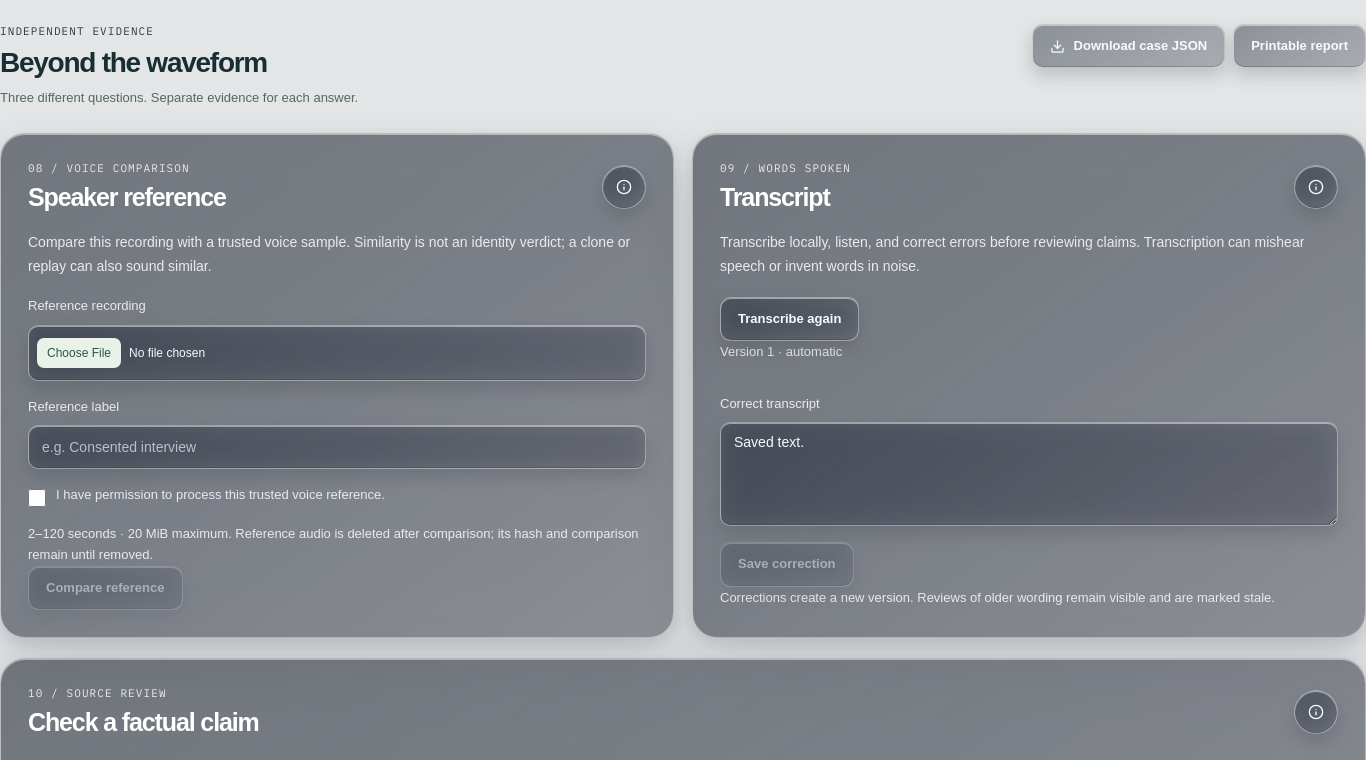
Test: shows action errors without replacing an existing successful transcript
The image size is (1366, 760).
Expected: the text box showing "Saved text." is shown, 720,422 -> 1338,526
Click the button "Transcribe again". click: (790, 319)
box: 720,297 -> 859,341
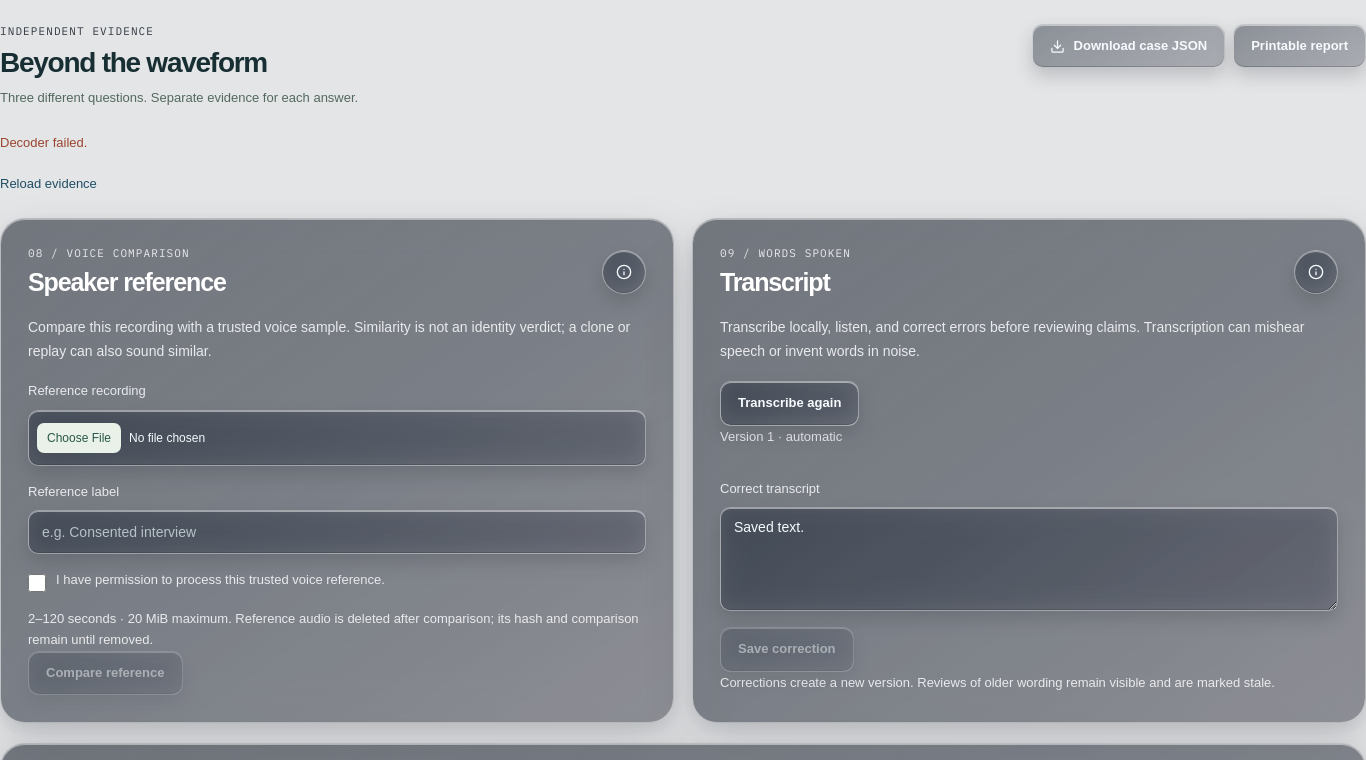
Expected: the text box showing "Saved text." is shown, 720,507 -> 1338,611
Expected: the message shows "Decoder failed.", 0,135 -> 88,150
